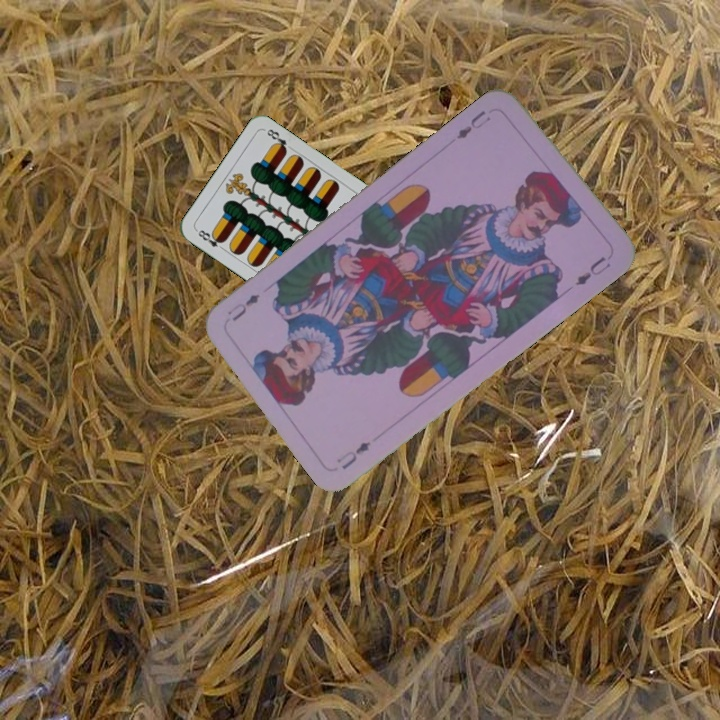E8: (192, 226, 228, 254)
EU: (452, 106, 493, 142), (332, 437, 373, 472)
